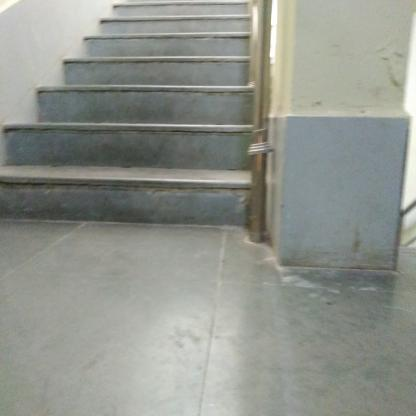stairs: (98, 14, 245, 237)
